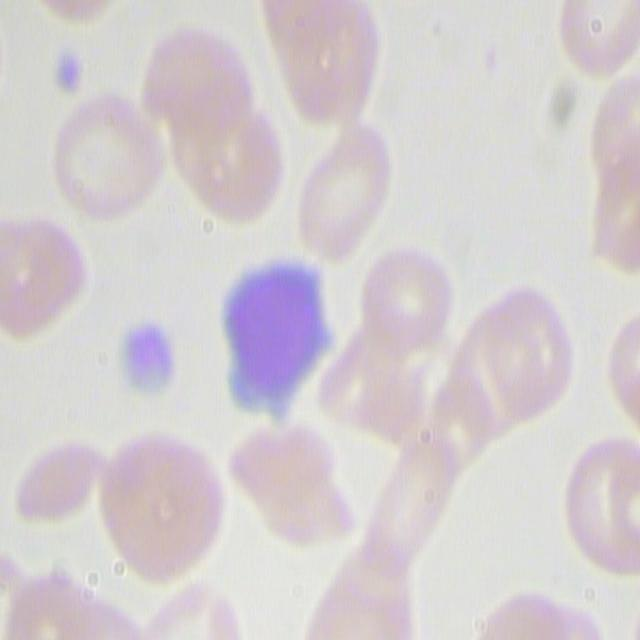RBC: (152, 7, 280, 231), (344, 242, 466, 446), (95, 416, 218, 586), (447, 283, 575, 433), (234, 412, 355, 559), (46, 90, 158, 228), (269, 2, 387, 127), (295, 122, 390, 258), (362, 434, 464, 558), (302, 531, 420, 638), (0, 209, 84, 345), (565, 436, 640, 578), (12, 563, 142, 640), (594, 83, 640, 290), (487, 585, 640, 640), (137, 581, 244, 640), (556, 0, 640, 72), (604, 310, 640, 447)
WBC: (214, 261, 342, 414)
platelets: (117, 327, 184, 401), (42, 56, 89, 98)
